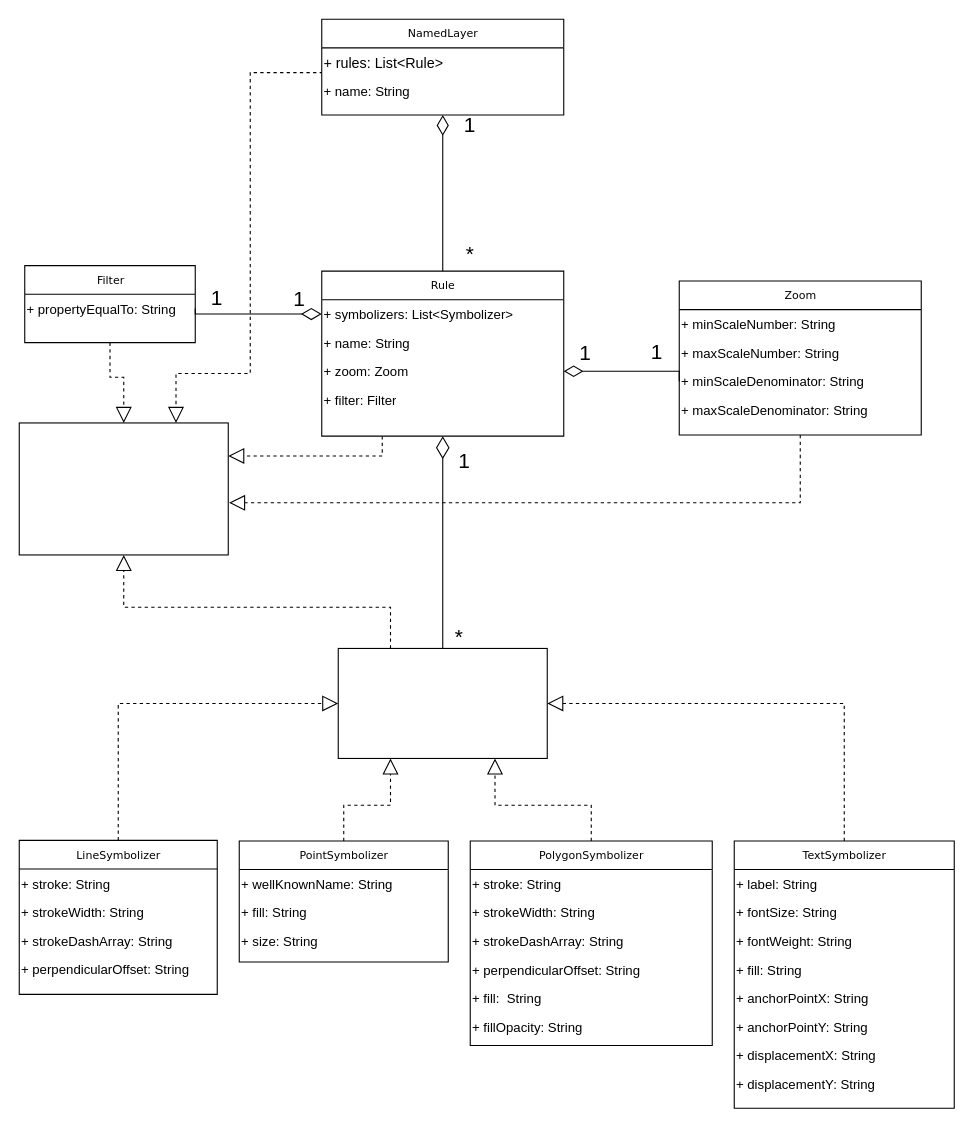
Some shapes in this 974 by 1128 pixel diagram are drawn without their labels. The centre of each missing label's shape, as x and y in pixels:
"<<Interface>> SLDObject + toSLD(): String + toSLDLight(): String" goes at (123,488).
"<<Interface>> Symbolizer" goes at (442,702).
